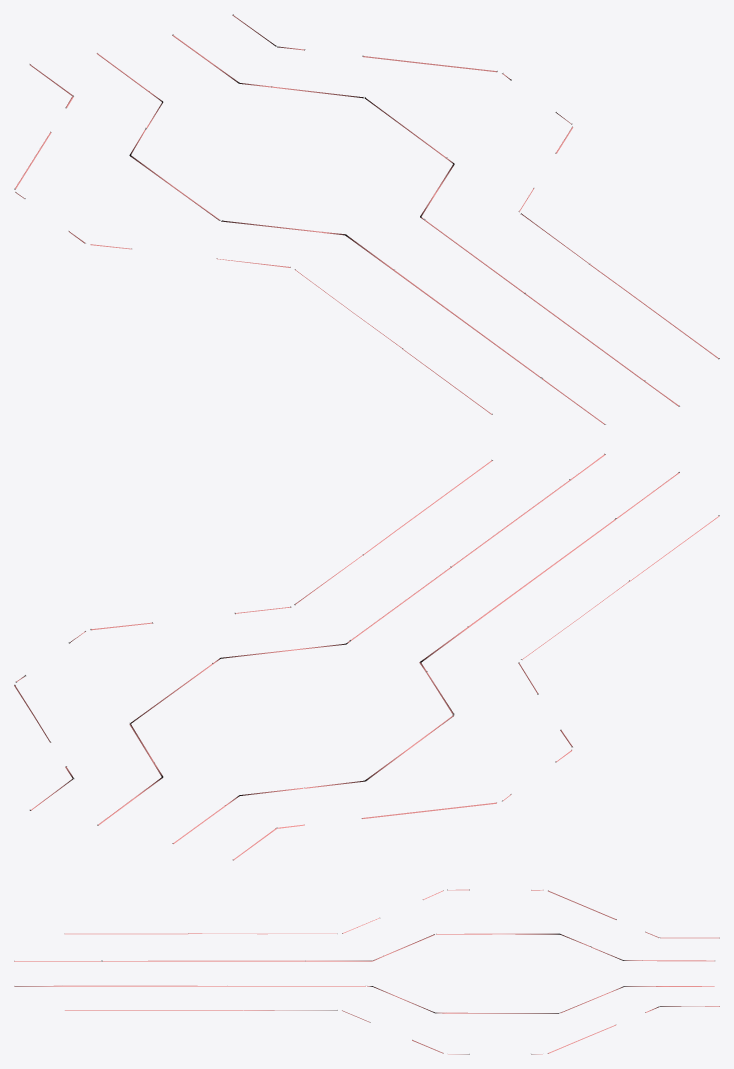
File: SM_ENV_LKNVLD_Event_SL_Line_Ground_A.gltf
The picture shows the model from 3 angles, top to bottom: view 1: azimuth 30°, elevation 25°; view 2: azimuth 150°, elevation 25°; view 3: azimuth 270°, elevation 25°; orthographic projection. The views are drawn at different scales.
Parts seen in each view (by area): view 1: SM_ENV_LKNVLD_Event_SL_Line_Ground_A; view 2: SM_ENV_LKNVLD_Event_SL_Line_Ground_A; view 3: SM_ENV_LKNVLD_Event_SL_Line_Ground_A.
Boxes of the visible parts, box(x1,y1,x2,y2) form: SM_ENV_LKNVLD_Event_SL_Line_Ground_A: box(14, 14, 719, 424); SM_ENV_LKNVLD_Event_SL_Line_Ground_A: box(14, 453, 719, 860); SM_ENV_LKNVLD_Event_SL_Line_Ground_A: box(14, 889, 719, 1054).
Bounding box in the file's own units: 53.96 × 0.3673 × 97.83.
